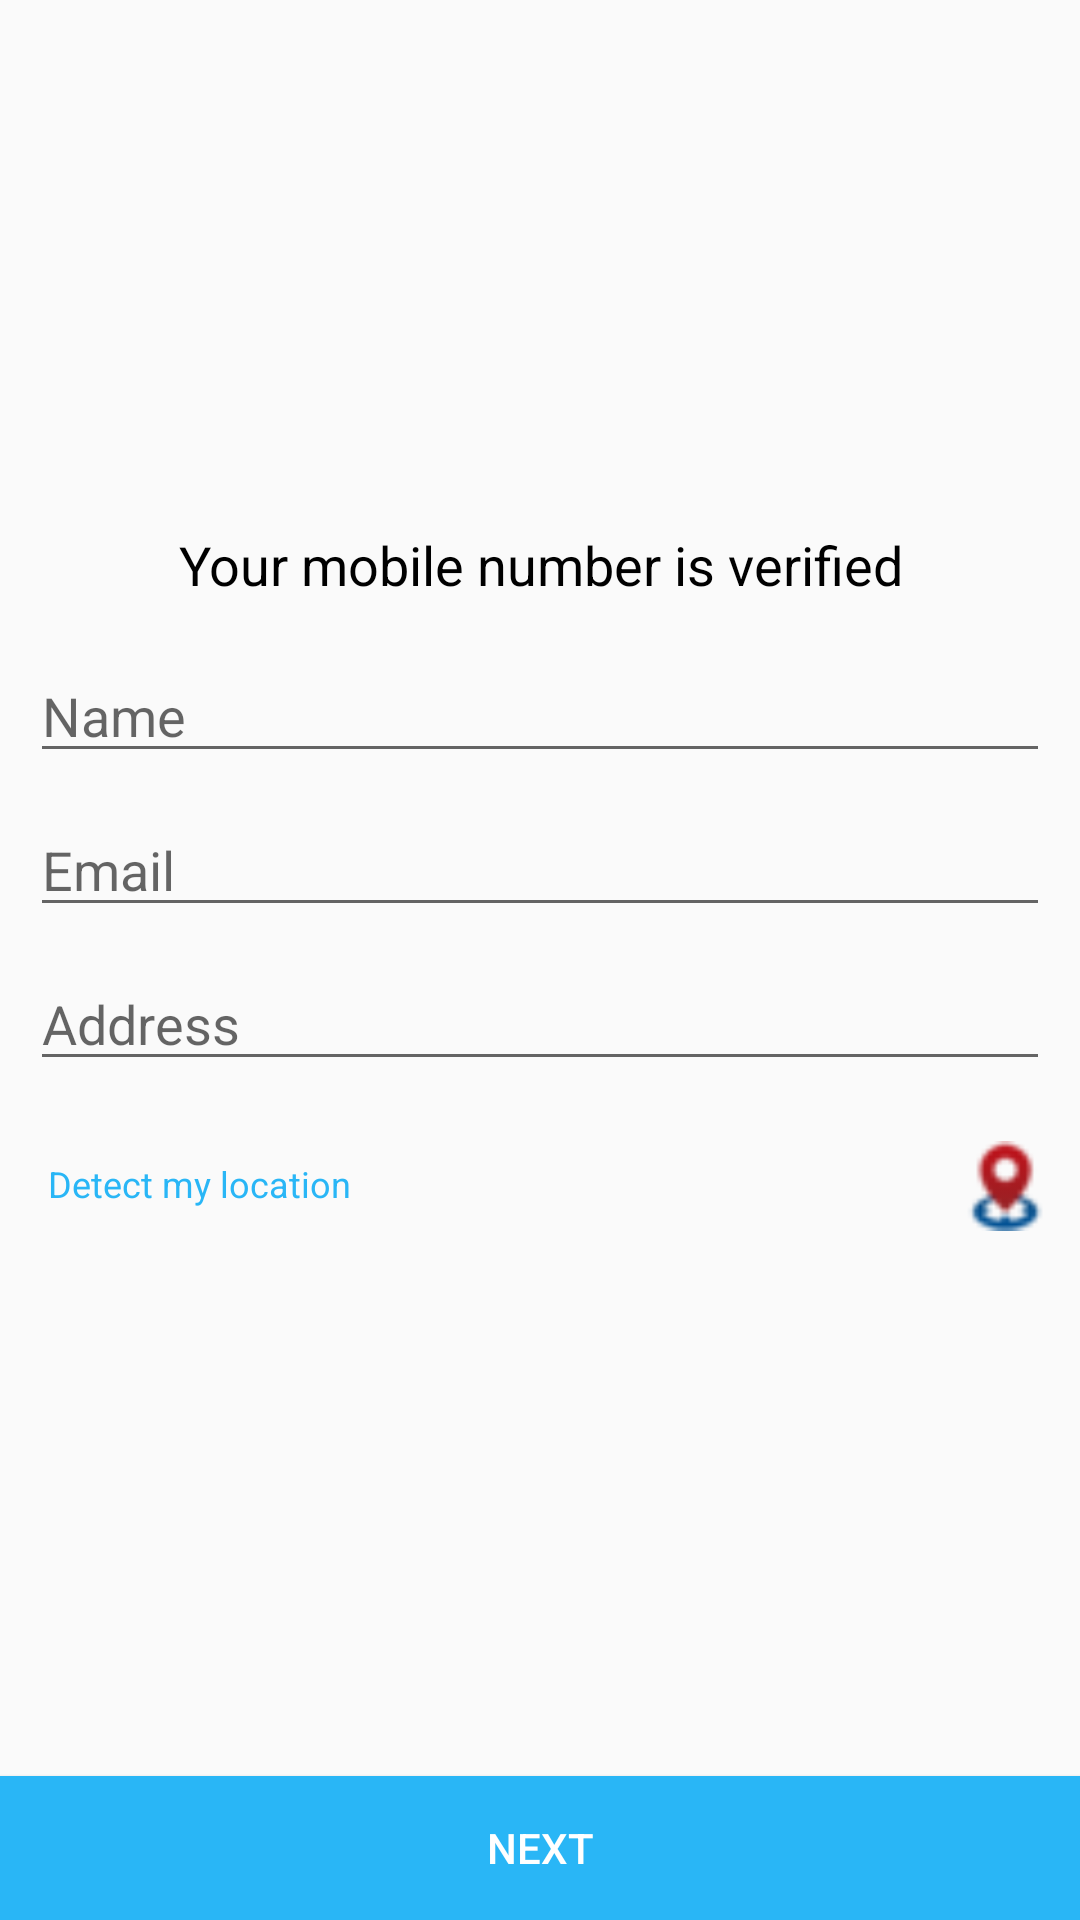

Icon click points for this 1080x1920 phone screenshot, format (x,y):
detectlocation: (1006,1186)
